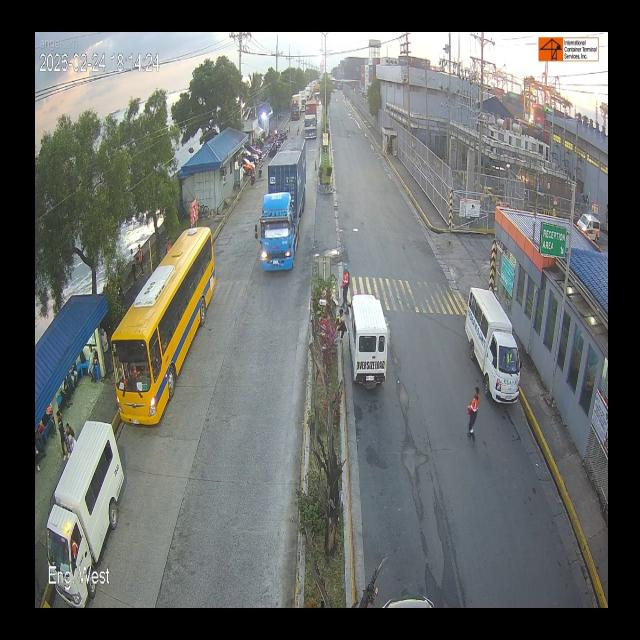bus: (114, 228, 218, 442)
car: (51, 444, 121, 600), (456, 272, 524, 415), (349, 286, 398, 414)
truck: (259, 134, 307, 292), (302, 97, 318, 141), (292, 89, 302, 126)
